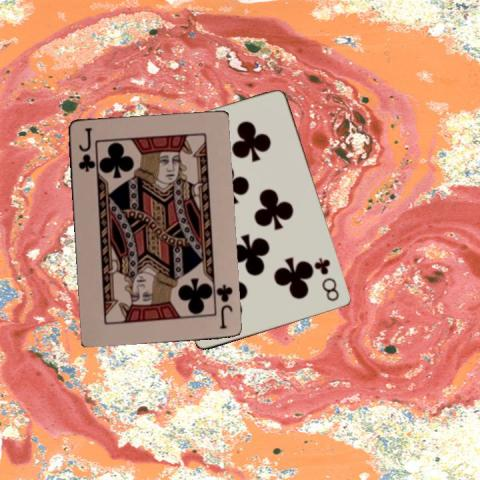8c: (313, 255, 341, 303)
Jc: (213, 281, 234, 330), (75, 125, 94, 172)
